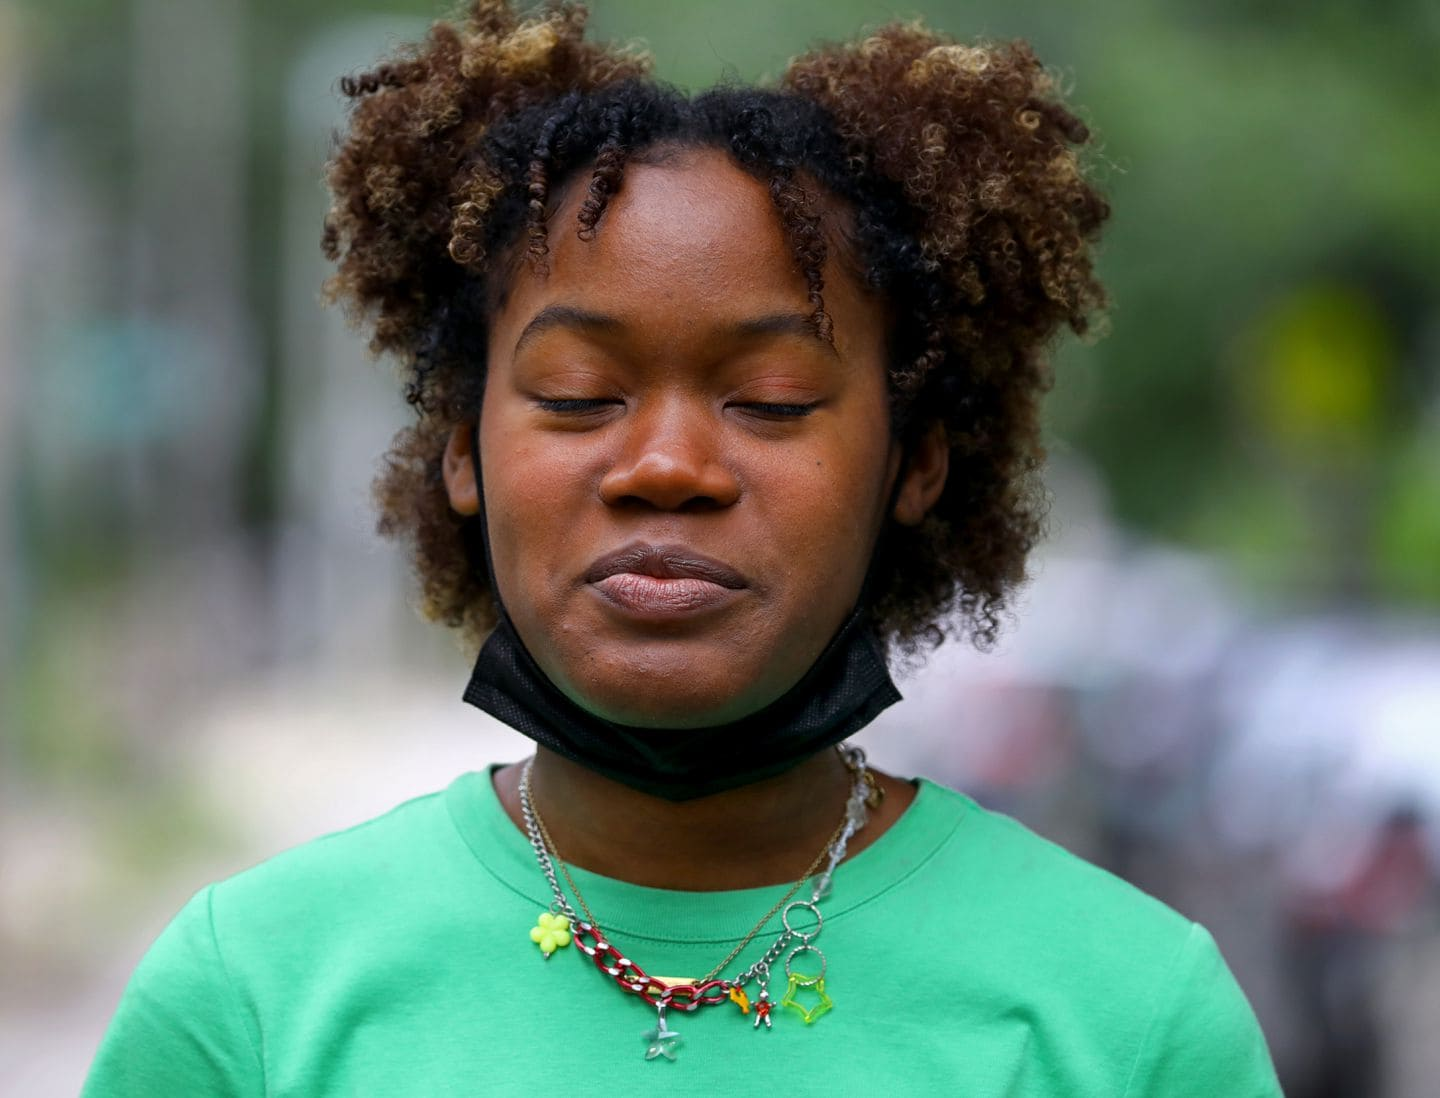with_incorrect_mask: (463, 170, 905, 803)
